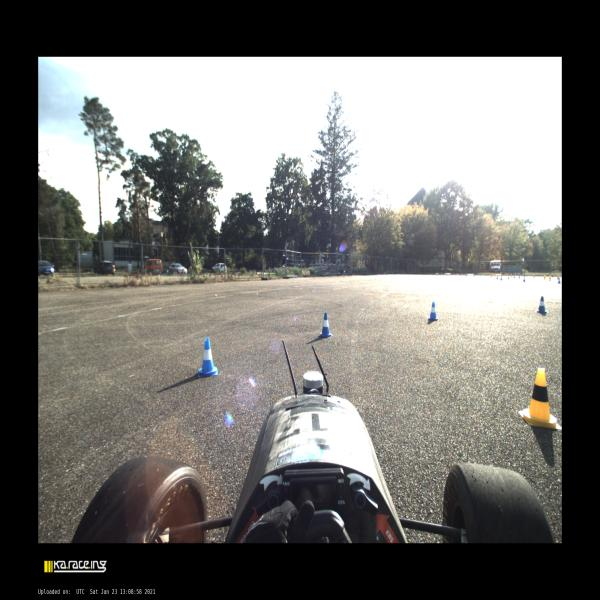blue_cone: (198, 338, 218, 378), (318, 312, 333, 338), (428, 300, 438, 321), (537, 295, 547, 314)
yellow_cone: (517, 366, 561, 429)
